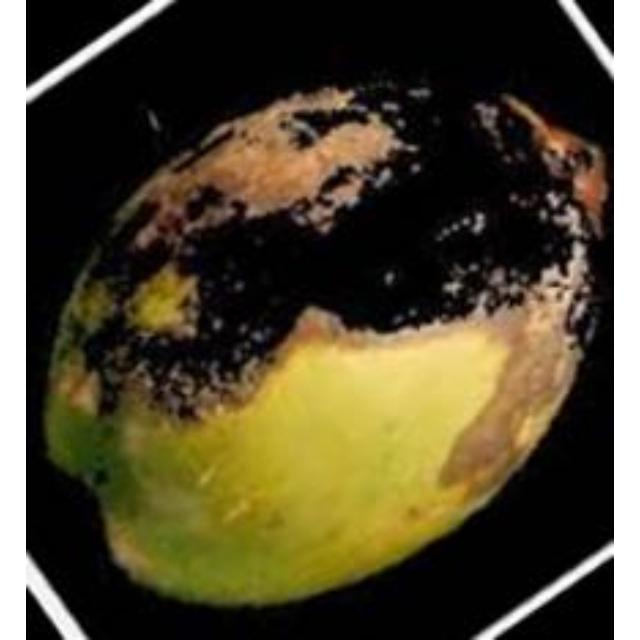damaged: (45, 82, 611, 613)
